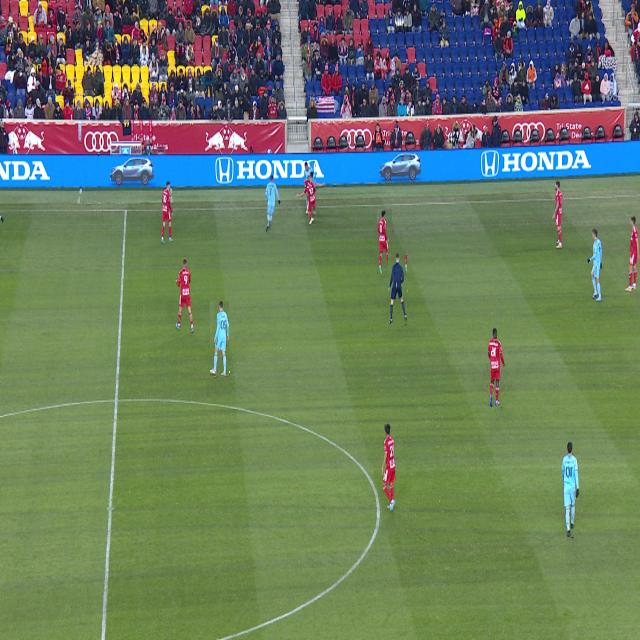player: (562, 443, 579, 537), (297, 173, 325, 224), (211, 302, 229, 376), (488, 329, 505, 407), (175, 259, 193, 332), (381, 424, 395, 505), (625, 216, 640, 291), (588, 229, 602, 301), (378, 210, 392, 274), (265, 176, 280, 231), (552, 181, 563, 248), (161, 182, 173, 243), (305, 162, 315, 186), (306, 191, 309, 214), (314, 185, 316, 192)
referee: (389, 253, 407, 324)
